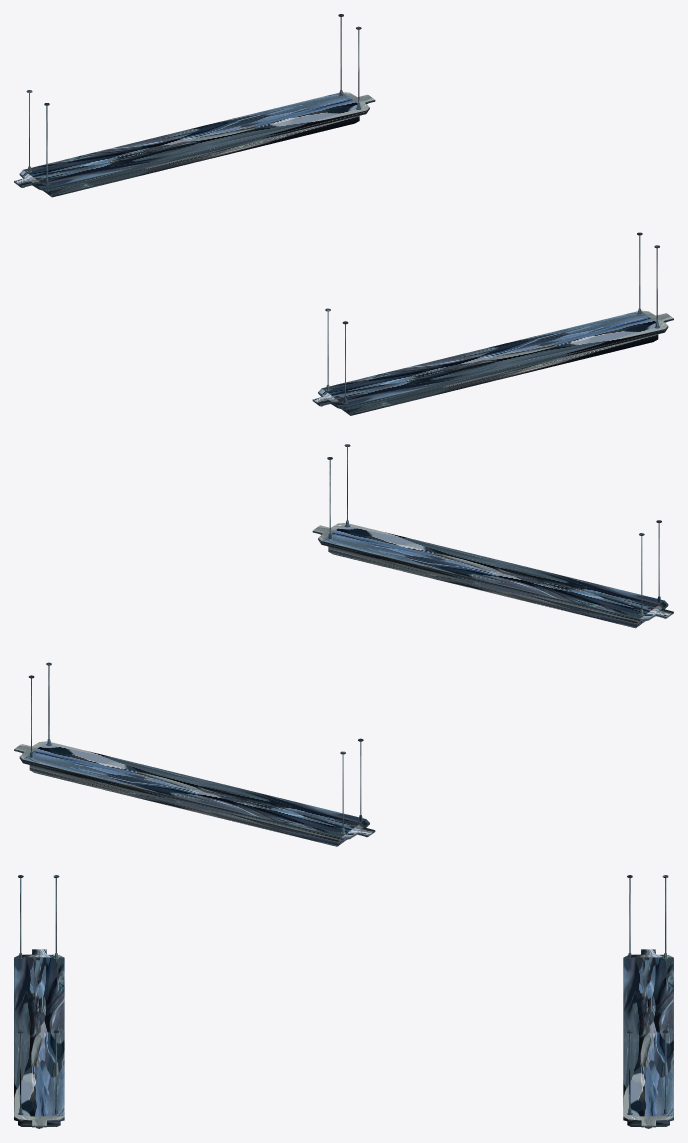
The model's file is futuristic_room_9.obj.
The picture shows the model from 3 angles, top to bottom: view 1: azimuth 30°, elevation 25°; view 2: azimuth 150°, elevation 25°; view 3: azimuth 270°, elevation 25°; orthographic projection. The views are drawn at different scales.
Bounding box in the file's own units: 1.36 × 0.3502 × 2.16.
